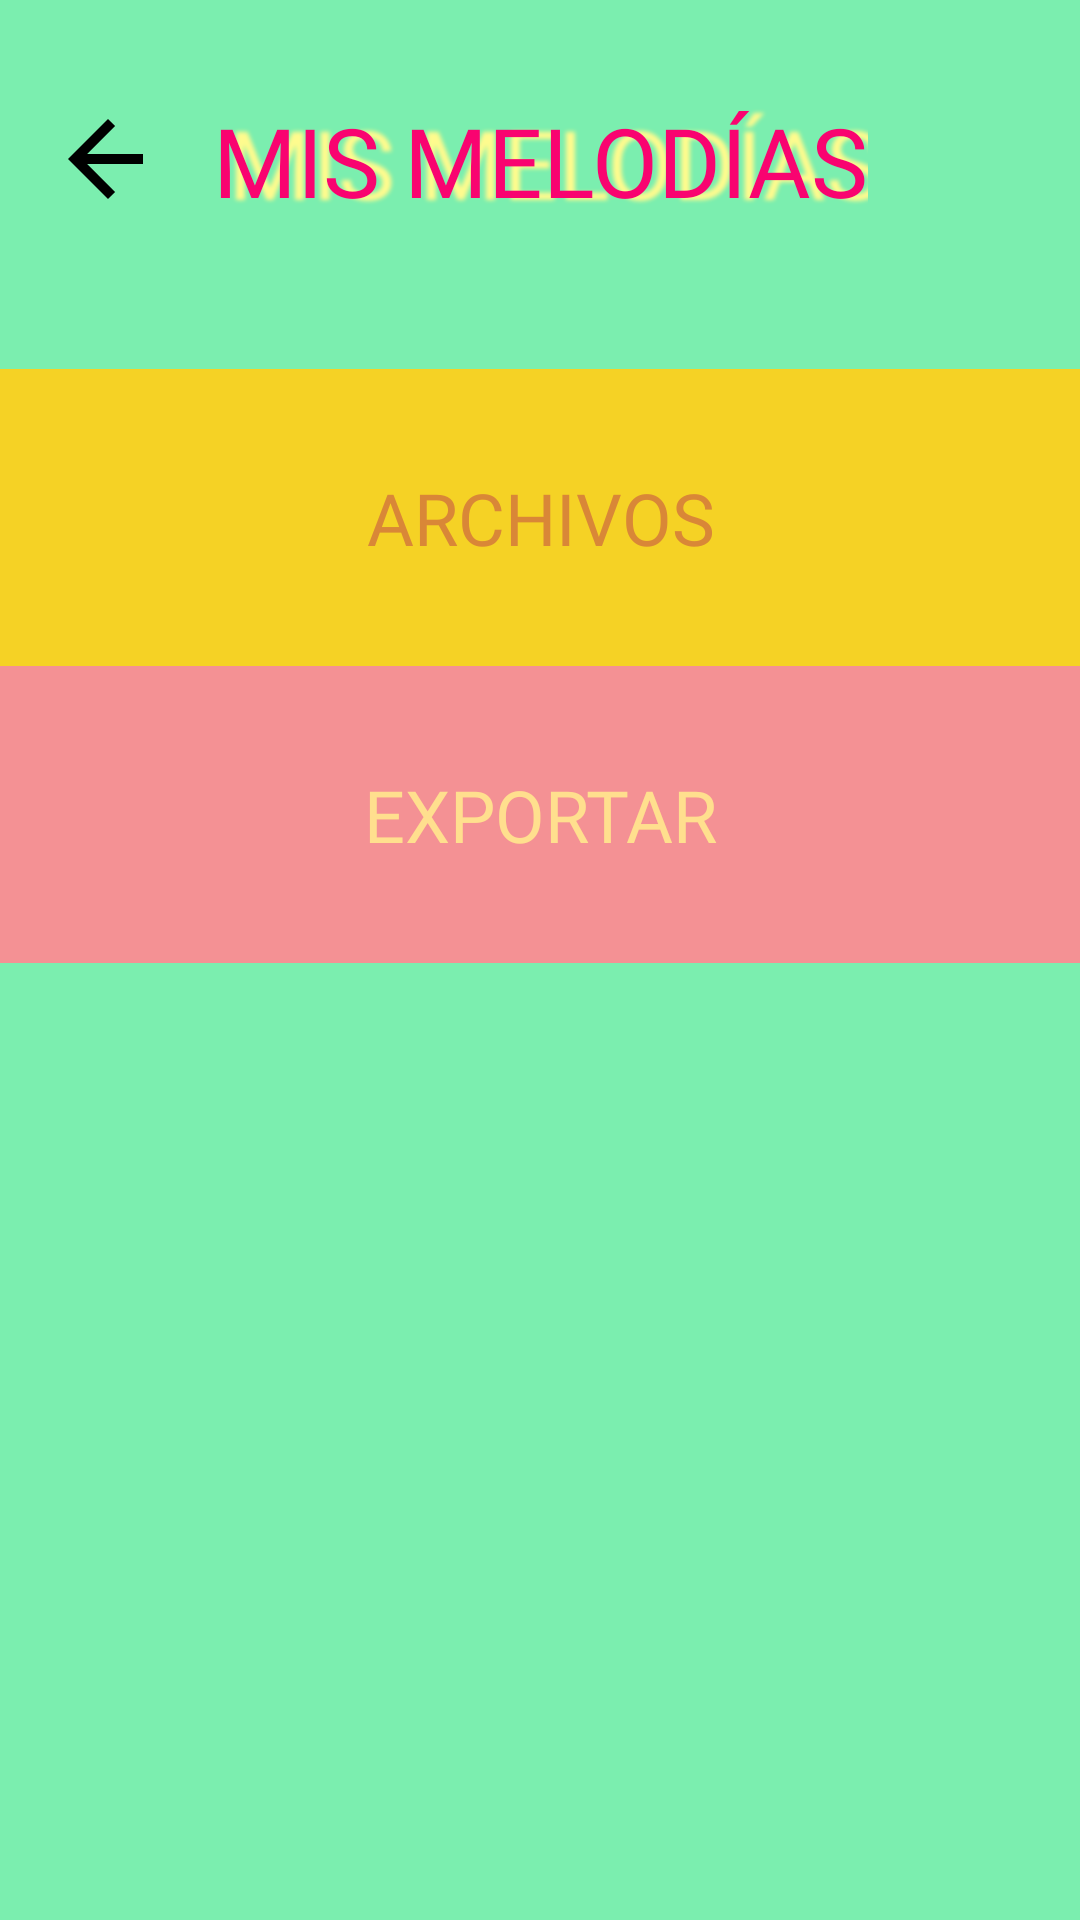

Where icons sit on this 1080 x 1920 app screen, as Rect(x1, y1, x2, y2):
Volver: Rect(68, 119, 143, 199)
